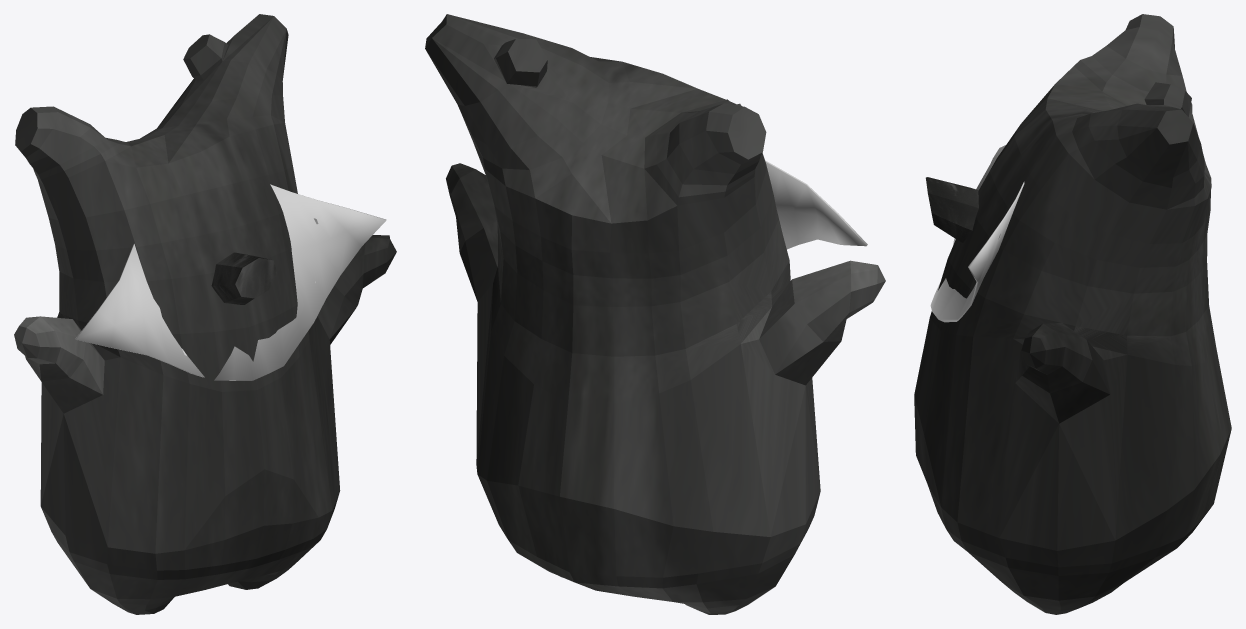
Rendered from frame_0012.obj.
3 renders of one model, left to right at view 1: azimuth 30°, elevation 25°; view 2: azimuth 150°, elevation 25°; view 3: azimuth 270°, elevation 25°, orthographic. The views are drawn at different scales.
Visible parts, largest first — view 1: korok, leaf, nose; view 2: korok, leaf; view 3: korok, leaf, nose.
Boxes of the visible parts, x1,y1,x2,y2 form: korok: (14,14,396,614); leaf: (75,184,386,380); nose: (211,252,277,304); korok: (425,14,885,614); leaf: (765,160,867,249); korok: (914,14,1231,614); leaf: (930,145,1024,322); nose: (925,177,978,242).
Size of the model in its own units: 1.66 by 2.18 by 1.16.
